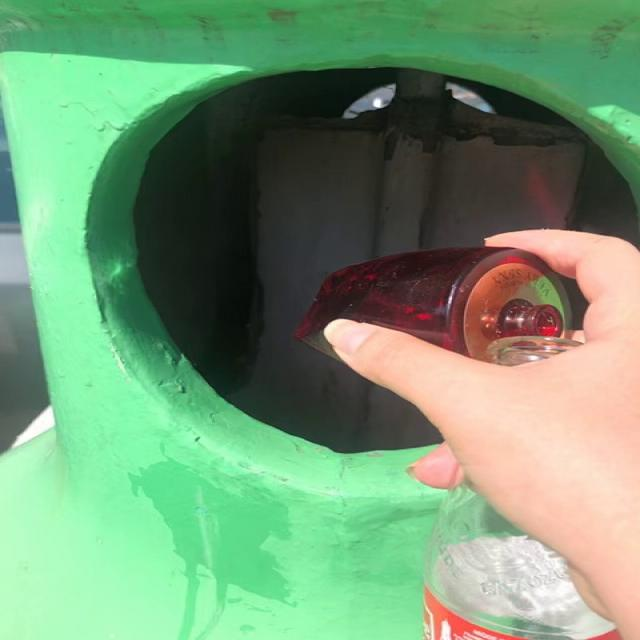glass: (295, 248, 571, 360)
